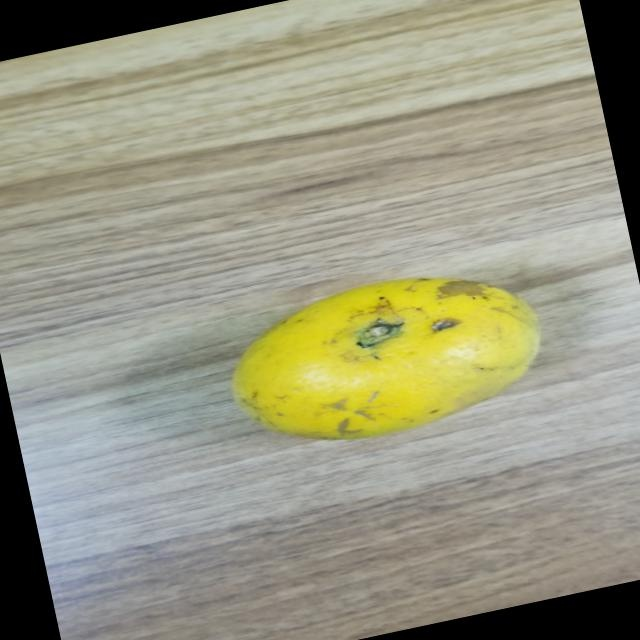agrume: (205, 245, 583, 485)
